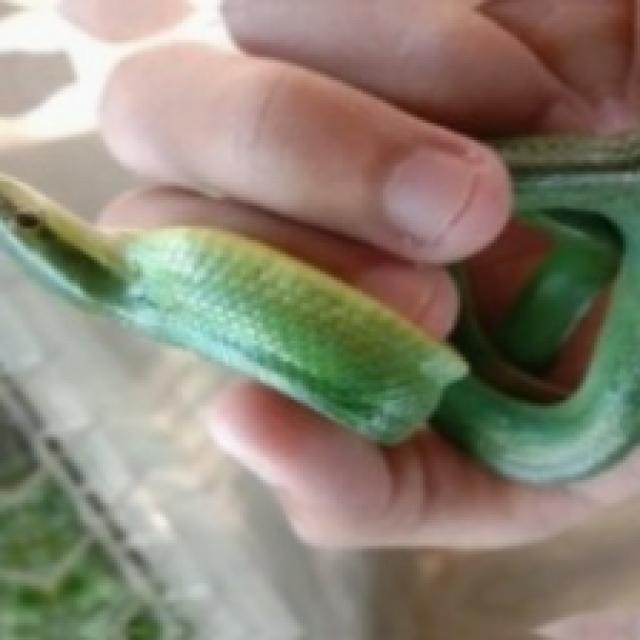red-tailed green ratsnake: (0, 135, 640, 483)
